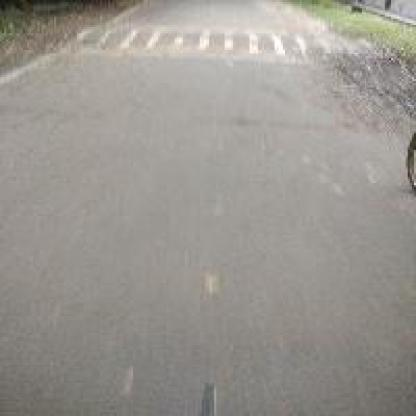Speed Bump: (84, 25, 372, 62)
